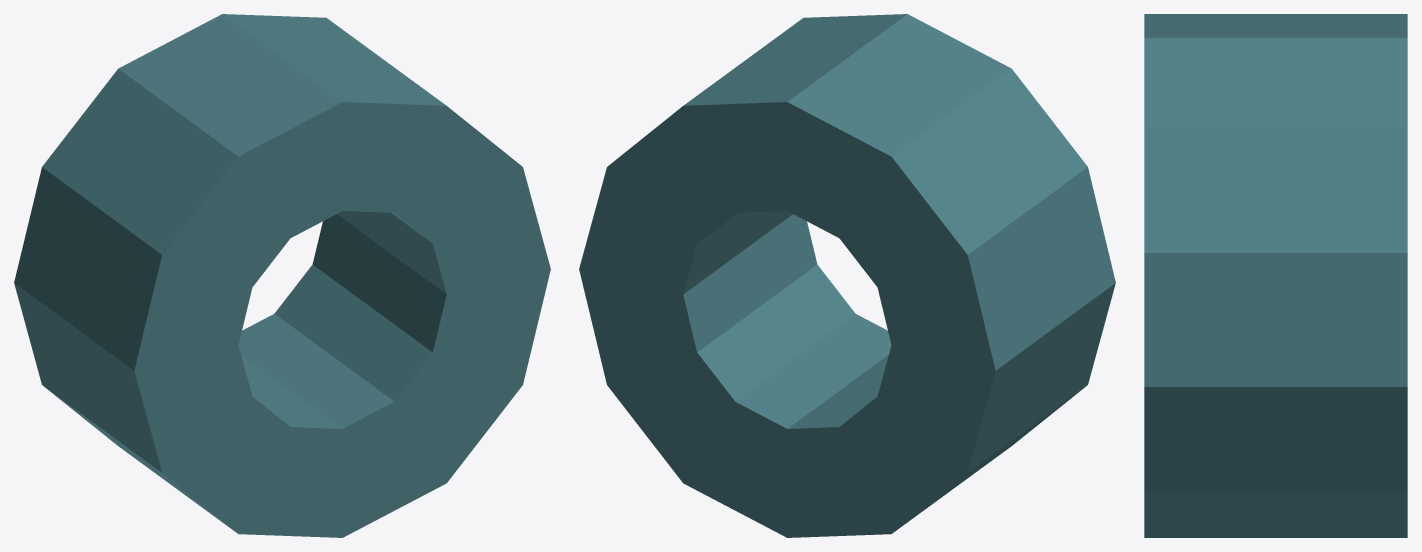
The model's file is wheel2-r4.glb.
The picture shows the model from 3 angles, left to right: view 1: azimuth 30°, elevation 25°; view 2: azimuth 150°, elevation 25°; view 3: azimuth 270°, elevation 25°; orthographic projection. The views are drawn at different scales.
Parts seen in each view (by area): view 1: Mesh_Mesh_head_geo.001_lambert2SG.001; view 2: Mesh_Mesh_head_geo.001_lambert2SG.001; view 3: Mesh_Mesh_head_geo.001_lambert2SG.001.
Boxes of the visible parts, x1,y1,x2,y2 form: Mesh_Mesh_head_geo.001_lambert2SG.001: [14, 14, 550, 537]; Mesh_Mesh_head_geo.001_lambert2SG.001: [579, 14, 1115, 537]; Mesh_Mesh_head_geo.001_lambert2SG.001: [1144, 14, 1407, 537].
Size of the model in its own units: 4 by 4 by 2.
